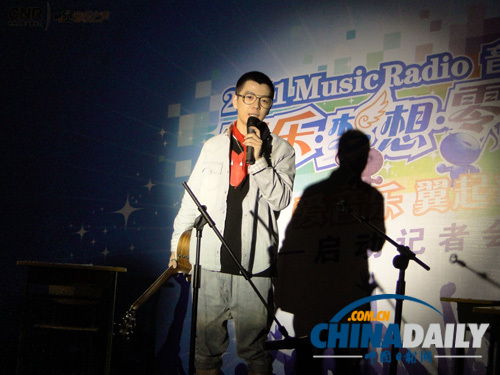handsup: (154, 67, 300, 365)
